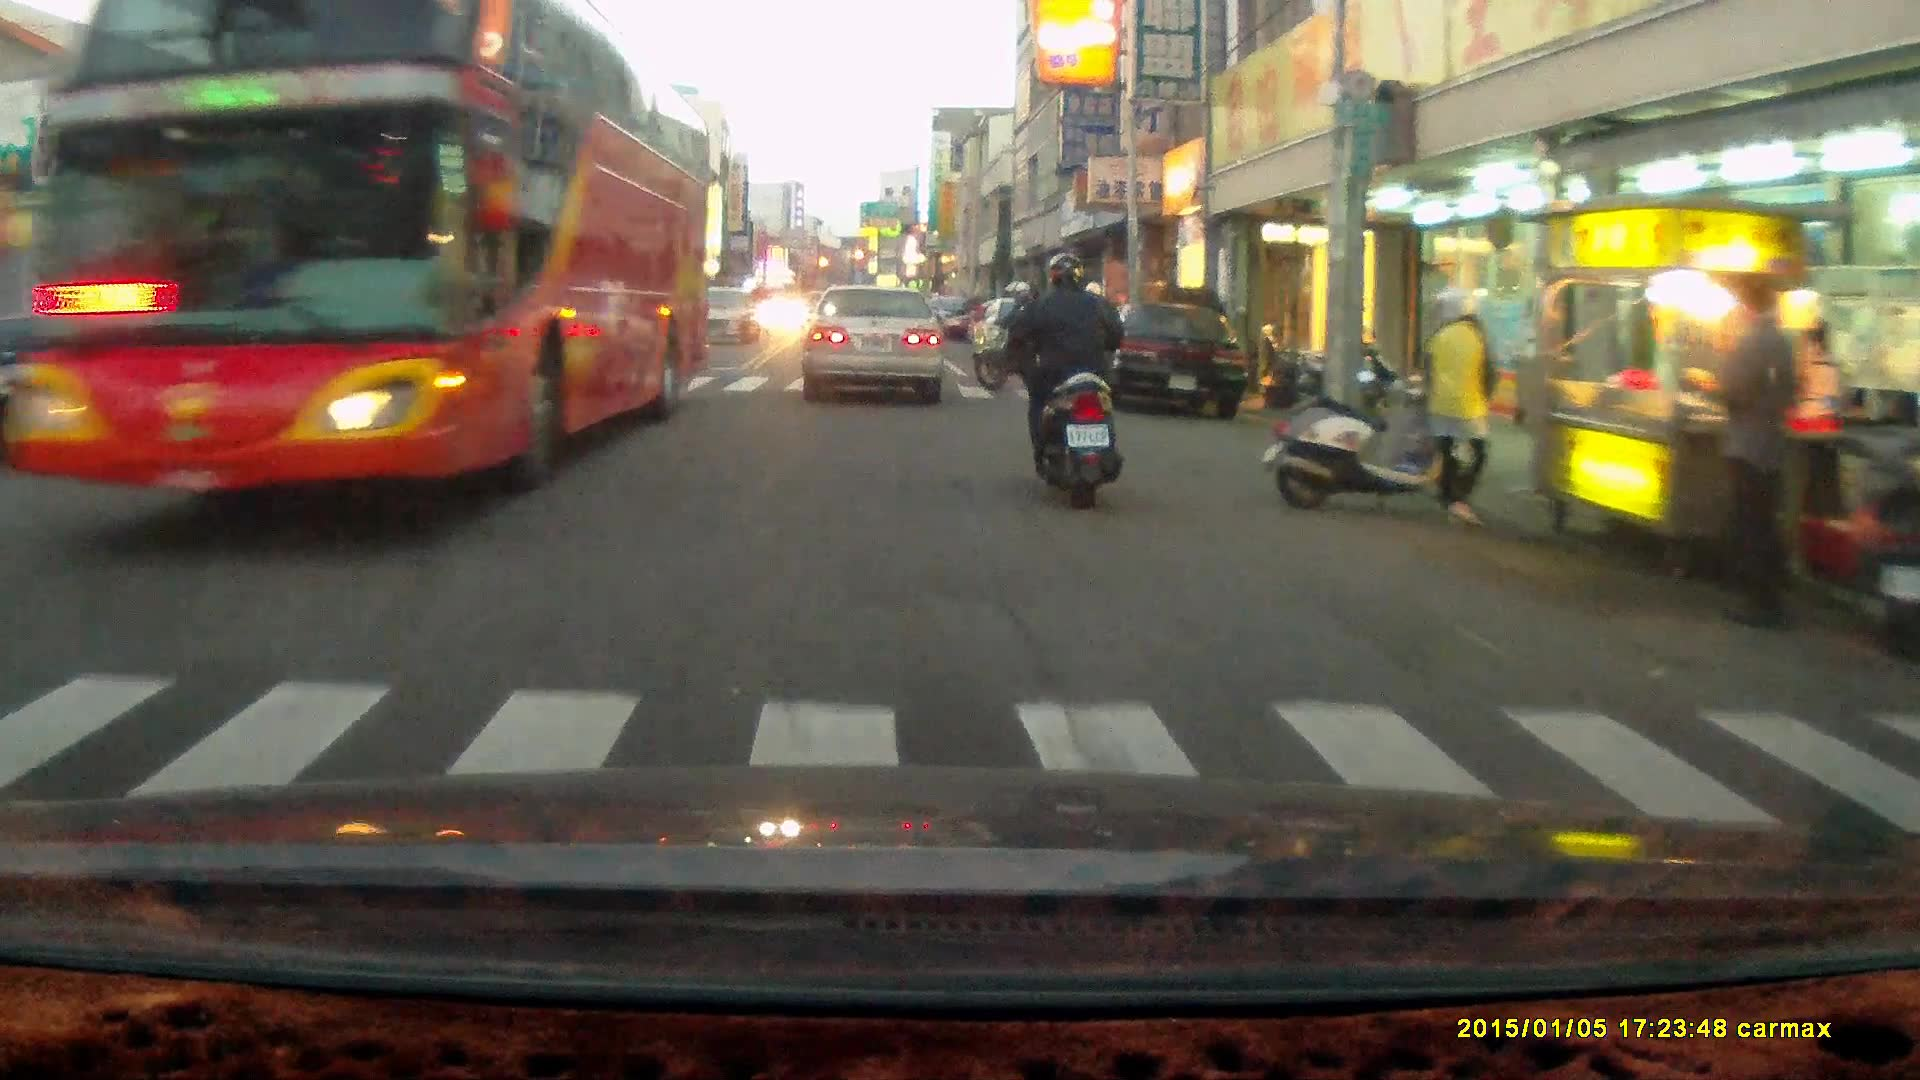pedestrian: (1698, 280, 1803, 631), (1417, 280, 1498, 532), (1787, 314, 1845, 506)
rider: (1001, 251, 1121, 511), (977, 277, 1048, 393)
vehicle: (12, 19, 711, 501), (1080, 300, 1259, 421), (802, 285, 947, 404)
